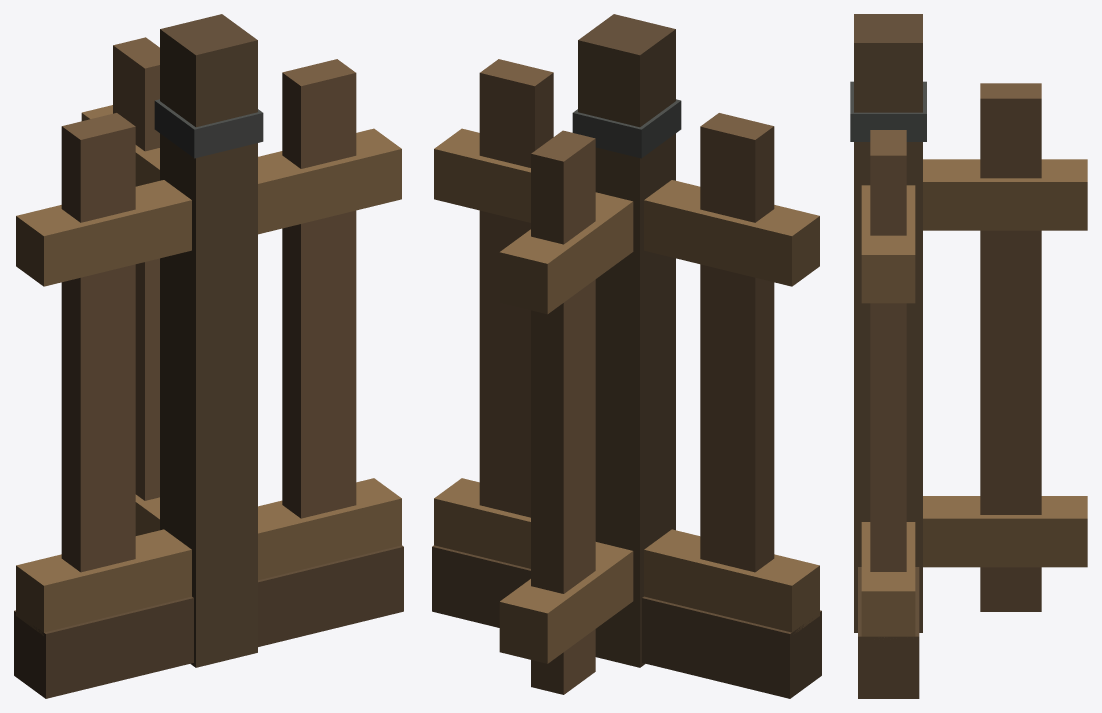
The picture shows the model from 3 angles, left to right: view 1: azimuth 30°, elevation 25°; view 2: azimuth 150°, elevation 25°; view 3: azimuth 270°, elevation 25°; orthographic projection. The views are drawn at different scales.
Parts seen in each view (by area): view 1: 3b37ff4abbdf9e9e379eba5fa1c0c571c5cf34add0d7a5b4f563be9d9e5c; view 2: 3b37ff4abbdf9e9e379eba5fa1c0c571c5cf34add0d7a5b4f563be9d9e5c; view 3: 3b37ff4abbdf9e9e379eba5fa1c0c571c5cf34add0d7a5b4f563be9d9e5c.
Boxes of the visible parts, <box> form: 3b37ff4abbdf9e9e379eba5fa1c0c571c5cf34add0d7a5b4f563be9d9e5c: <box>14,14,403,698</box>; 3b37ff4abbdf9e9e379eba5fa1c0c571c5cf34add0d7a5b4f563be9d9e5c: <box>432,14,821,698</box>; 3b37ff4abbdf9e9e379eba5fa1c0c571c5cf34add0d7a5b4f563be9d9e5c: <box>850,14,1087,698</box>.
Size of the model in its own units: 1.04 by 1.7 by 0.62.
2 materials, 1 textured.
